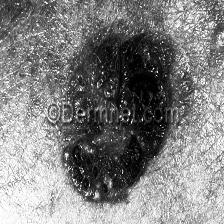Benign Marking or Mole: (58, 28, 170, 206)
